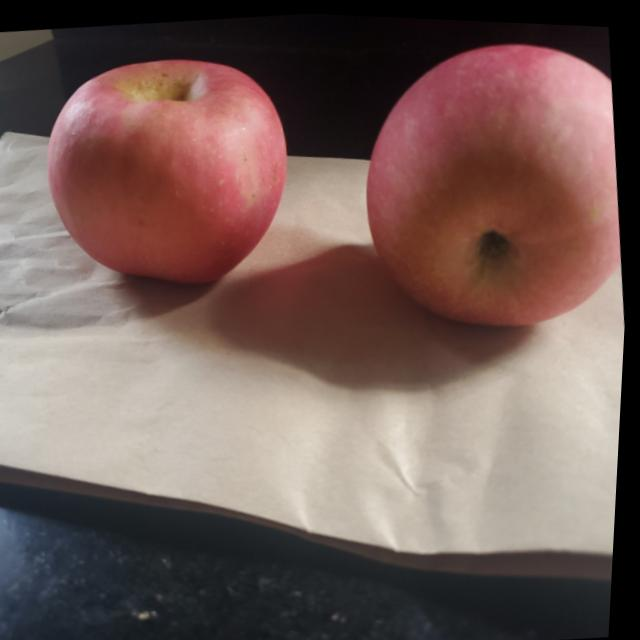apple: (344, 21, 639, 343), (37, 43, 311, 304)
